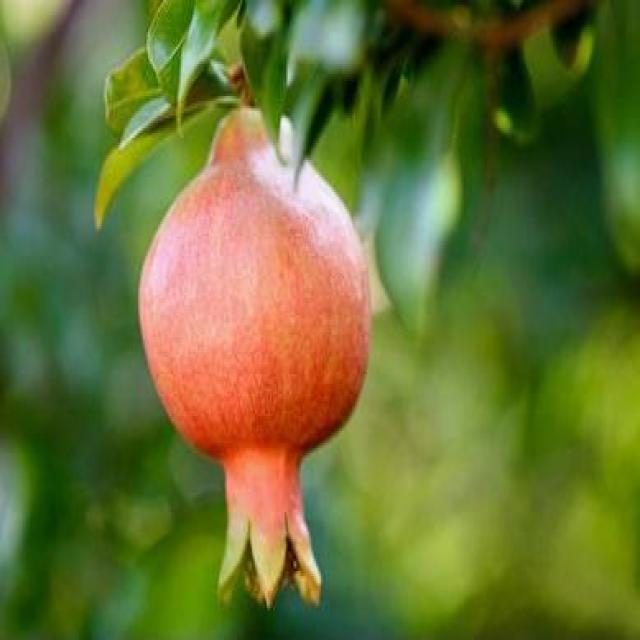Pomegranate: (137, 102, 377, 619)
